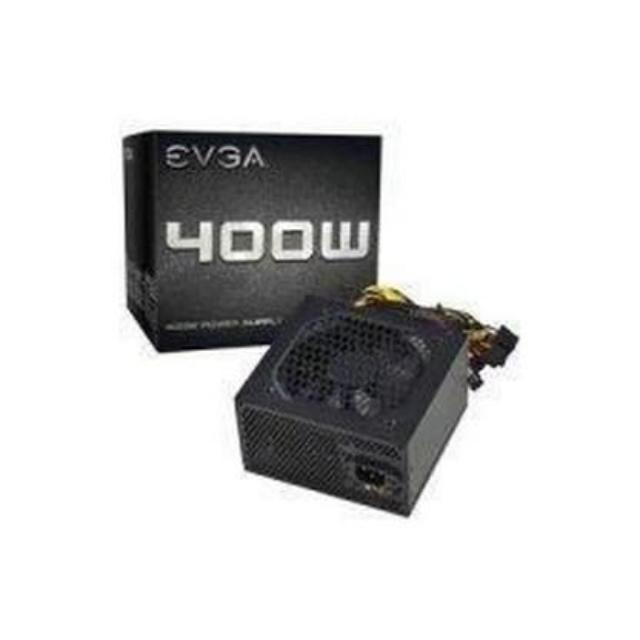PSU: (226, 288, 477, 526)
